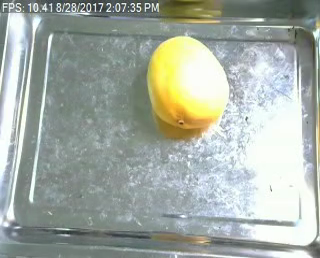Mango: (145, 28, 230, 128)
